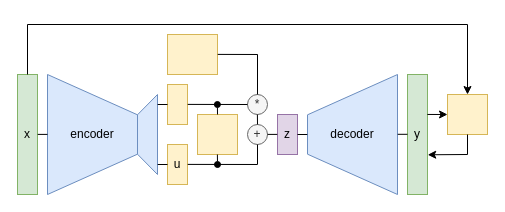
Some shapes in this 505 by 212 pixel diagram are drawn without their labels. Here are the shapes that lost their labels. From the top down, the centre of each, then its label:
At (192,54): "N(0,I)".
At (177,104): "s²".
At (467,114): "RMS".
At (217,134): "D KL".
